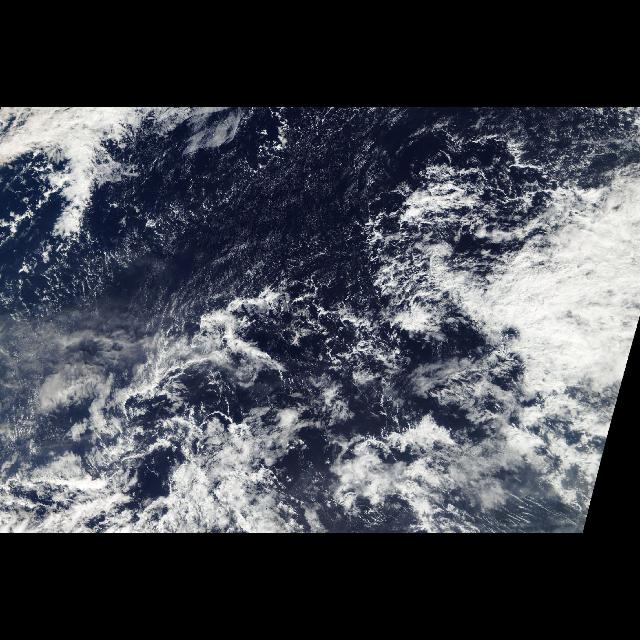Gravel: (212, 220, 432, 418)
Sugar: (132, 110, 418, 310)
